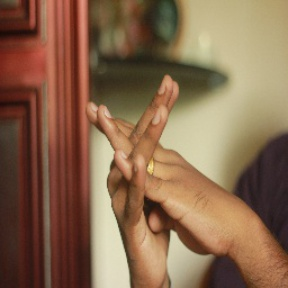W: (80, 68, 207, 237)
